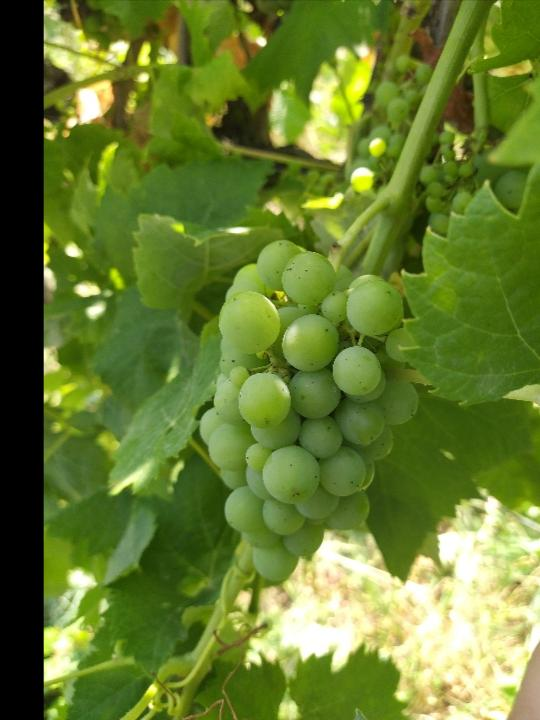grape: (195, 237, 422, 587)
